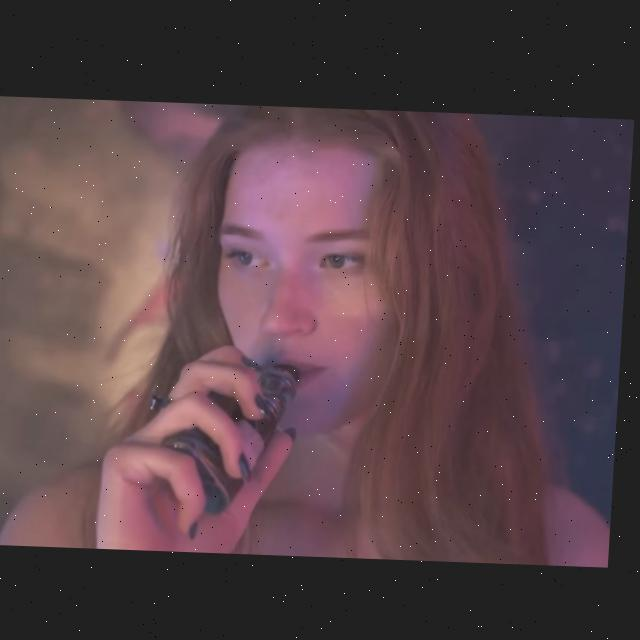vape: (162, 358, 306, 516)
